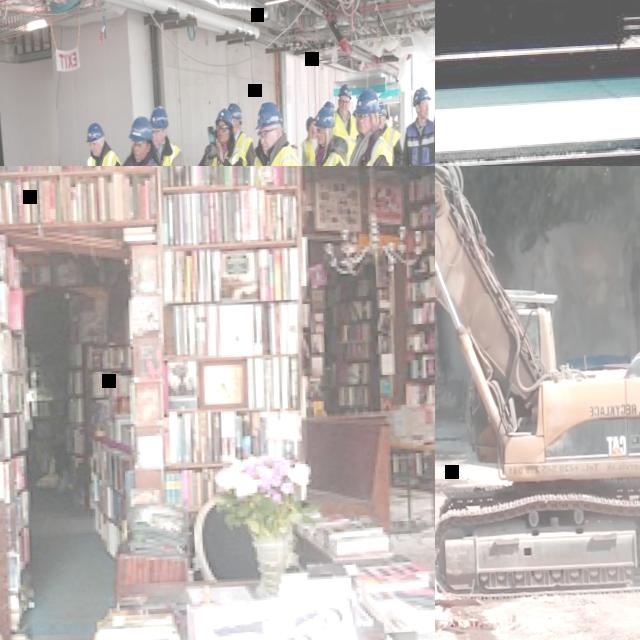Hardhat: (254, 101, 283, 130), (353, 86, 380, 114), (128, 114, 154, 142), (314, 105, 335, 129), (150, 105, 170, 128), (86, 123, 106, 144), (215, 106, 235, 127), (413, 86, 433, 106), (227, 102, 244, 120), (338, 84, 353, 100), (306, 115, 317, 131), (378, 103, 389, 116), (324, 99, 336, 109)
NO-Mask: (262, 140, 274, 155), (359, 122, 371, 133), (134, 150, 145, 162), (218, 133, 228, 143), (92, 147, 102, 155), (421, 111, 430, 119), (340, 107, 349, 115), (318, 136, 326, 144), (154, 137, 163, 144), (378, 121, 385, 129), (313, 127, 317, 132)
Person: (338, 86, 406, 166), (241, 98, 315, 166), (78, 113, 170, 166), (388, 83, 435, 166), (193, 107, 254, 166), (300, 106, 354, 166), (329, 83, 367, 166), (147, 105, 189, 166), (225, 100, 262, 166), (82, 121, 129, 166), (377, 102, 409, 166), (299, 114, 322, 166), (252, 140, 266, 166), (324, 99, 336, 120)
Safety Vest: (404, 118, 435, 166), (333, 110, 359, 166), (249, 143, 310, 166), (355, 135, 398, 166), (199, 143, 249, 166), (381, 126, 405, 166), (150, 142, 185, 166), (233, 132, 257, 166), (86, 148, 125, 166), (301, 139, 317, 166)
machinery: (435, 166, 640, 617)
